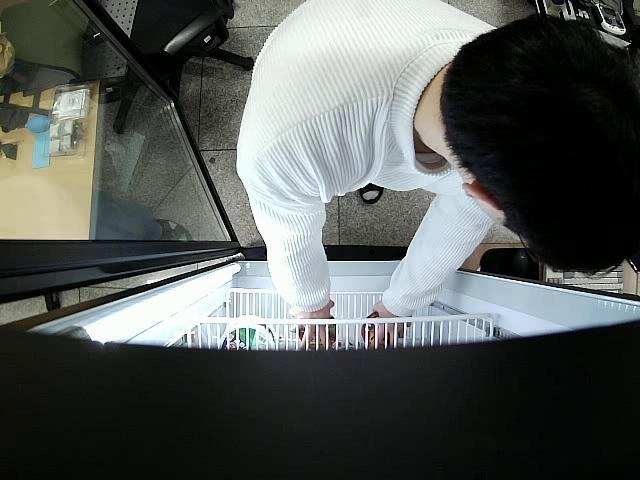06_nuguri_S: (360, 310, 398, 348), (298, 315, 338, 351)
